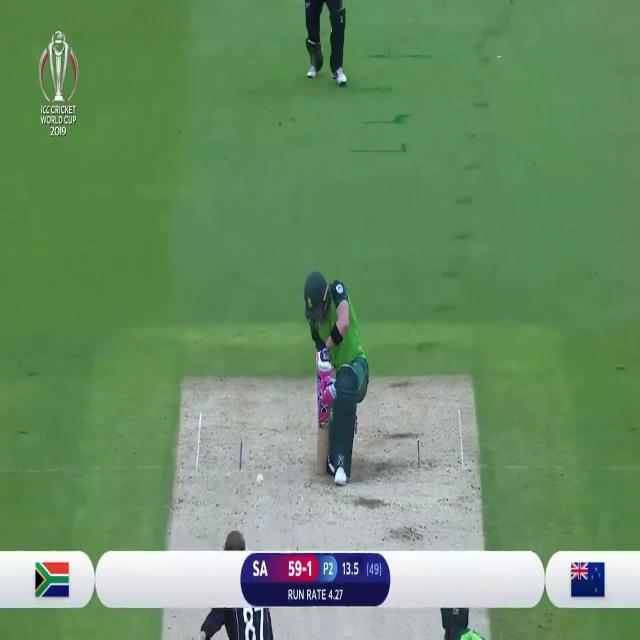ball: (255, 471, 266, 492)
